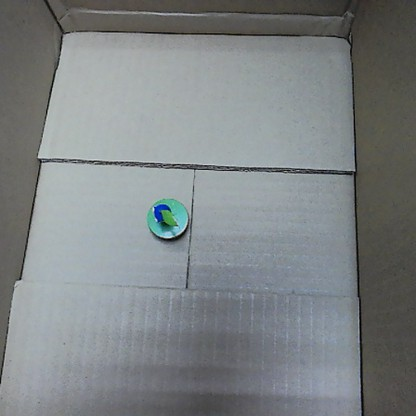leafairy: (144, 195, 189, 244)
